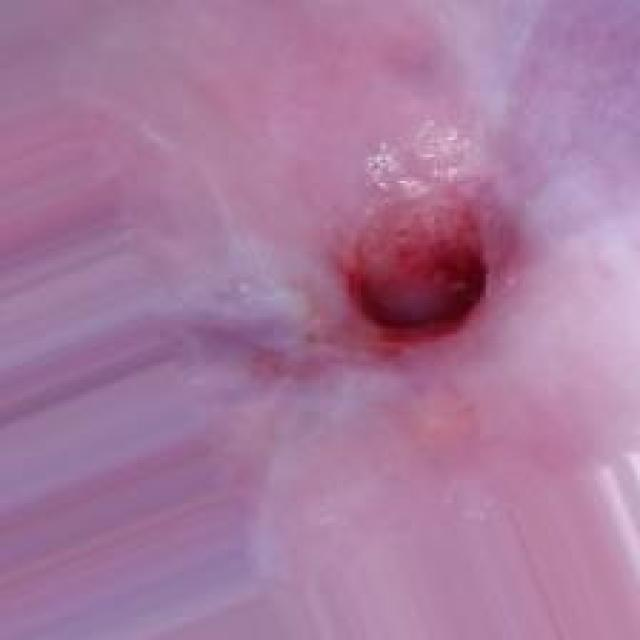type-1: (163, 54, 640, 550)
